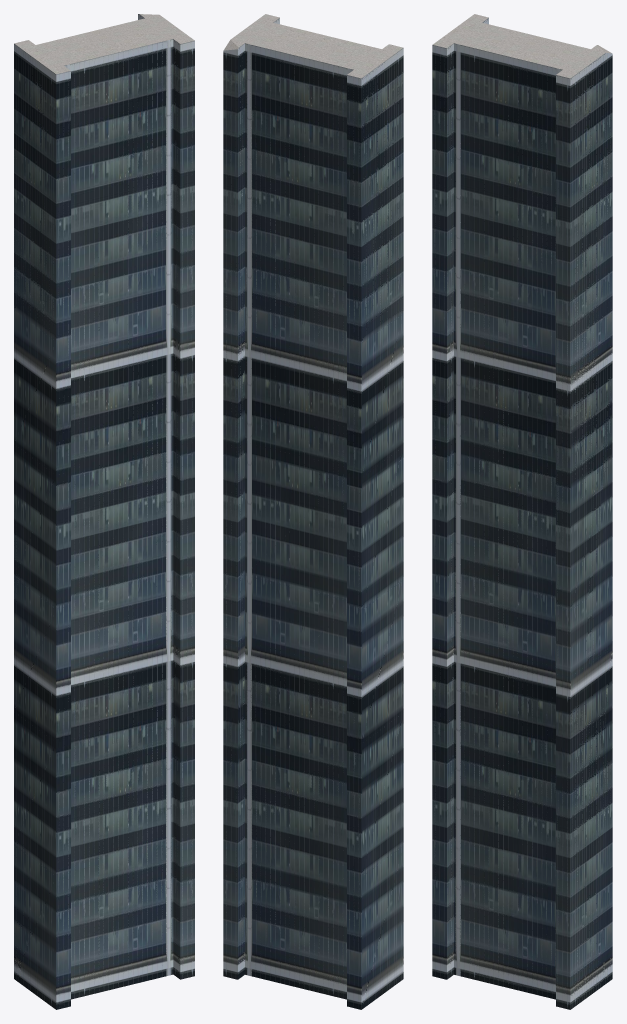
3 views of the same model, side by side, from view 1: azimuth 30°, elevation 25°; view 2: azimuth 150°, elevation 25°; view 3: azimuth 330°, elevation 25° (orthographic).
Visible parts, largest first — view 1: building20, building20_cell, building20_cell.001, building20_cell.003, building20_cell.004, building20_cell.002; view 2: building20, building20_cell.003, building20_cell.002, building20_cell.001, building20_cell; view 3: building20, building20_cell, building20_cell.003, building20_cell.001, building20_cell.004, building20_cell.002.
Part boxes in pixels (x1,y1,x2,y2): building20: (14, 14, 194, 1009); building20_cell: (14, 239, 194, 665); building20_cell.001: (14, 44, 118, 336); building20_cell.003: (14, 642, 194, 1008); building20_cell.004: (118, 42, 194, 251); building20_cell.002: (75, 14, 173, 41); building20: (223, 14, 403, 1009); building20_cell.003: (223, 642, 361, 1009); building20_cell.002: (223, 30, 315, 268); building20_cell.001: (315, 48, 403, 330); building20_cell: (223, 252, 361, 676); building20: (432, 14, 612, 1009); building20_cell: (432, 255, 612, 674); building20_cell.003: (432, 643, 612, 1009); building20_cell.001: (432, 19, 508, 303); building20_cell.004: (508, 57, 591, 277); building20_cell.002: (520, 32, 612, 261).
Size of the model in its own units: 3.08 by 19.85 by 1.63.
2 materials, 2 textured.
